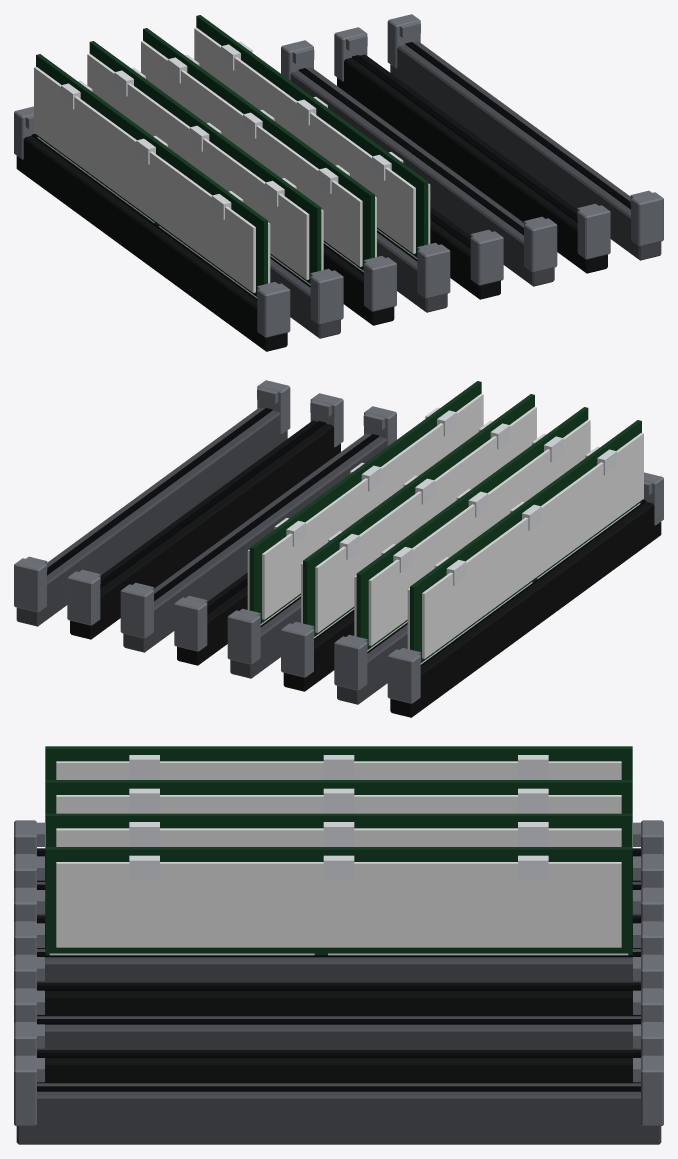
The model's file is hwm_ram_ddr3_16gb.glb.
3 renders of one model, top to bottom at view 1: azimuth 30°, elevation 25°; view 2: azimuth 150°, elevation 25°; view 3: azimuth 270°, elevation 25°, orthographic. The views are drawn at different scales.
Visible parts, largest first — view 1: Slots, Stick_0, Stick_1, Stick_3, Stick_2, Latch_1_1, Latch_4_1, Latch_6_1, Latch_5_1, Latch_0_1, Latch_3_1, Latch_7_1 (+5 smaller); view 2: Slots, Stick_0, Stick_1, Stick_3, Stick_2, Latch_1_0, Latch_4_0, Latch_6_0, Latch_5_0, Latch_0_0, Latch_3_0, Latch_7_0 (+5 smaller); view 3: Slots, Stick_3, Stick_0, Stick_1, Stick_2, Latch_7_0, Latch_7_1, Latch_2_0, Latch_2_1, Latch_4_0, Latch_4_1, Latch_0_0 (+9 smaller).
Boxes of the visible parts, x1,y1,x2,y2 form: Slots: [16, 41, 661, 351]; Stick_0: [34, 54, 270, 298]; Stick_1: [87, 41, 323, 285]; Stick_3: [194, 15, 430, 259]; Stick_2: [141, 28, 376, 272]; Latch_1_1: [310, 268, 343, 324]; Latch_4_1: [470, 229, 503, 285]; Latch_6_1: [577, 203, 610, 259]; Latch_5_1: [524, 216, 557, 272]; Latch_0_1: [257, 282, 290, 337]; Latch_3_1: [417, 242, 450, 298]; Latch_7_1: [630, 190, 663, 246]; Slots: [16, 407, 661, 717]; Stick_0: [407, 420, 643, 664]; Stick_1: [354, 407, 590, 651]; Stick_3: [247, 381, 483, 625]; Stick_2: [301, 394, 536, 638]; Latch_1_0: [334, 634, 367, 690]; Latch_4_0: [174, 595, 207, 651]; Latch_6_0: [67, 569, 100, 625]; Latch_5_0: [120, 582, 153, 638]; Latch_0_0: [387, 648, 420, 703]; Latch_3_0: [227, 608, 260, 664]; Latch_7_0: [14, 556, 47, 612]; Slots: [16, 848, 661, 1144]; Stick_3: [45, 847, 632, 955]; Stick_0: [45, 746, 632, 779]; Stick_1: [45, 780, 632, 813]; Stick_2: [45, 813, 632, 846]; Latch_7_0: [633, 1055, 663, 1125]; Latch_7_1: [14, 1055, 44, 1125]; Latch_2_0: [633, 887, 663, 922]; Latch_2_1: [14, 887, 44, 922]; Latch_4_0: [633, 954, 663, 989]; Latch_4_1: [14, 954, 44, 989]; Latch_0_0: [633, 820, 663, 855].
Bounding box in the file's own units: 0.1346 × 0.0389 × 0.1472.
